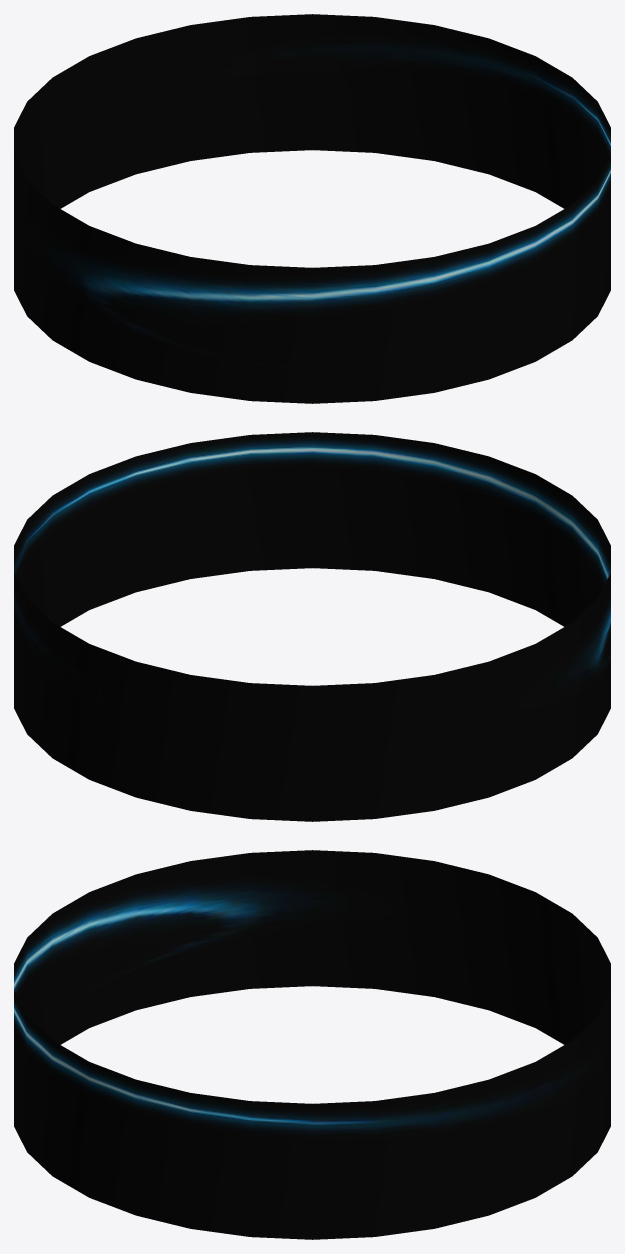
Rendered from 0332_hupa_06.glb.
3 views of the same model, one above another, from view 1: azimuth 30°, elevation 25°; view 2: azimuth 150°, elevation 25°; view 3: azimuth 270°, elevation 25° (orthographic).
Bounding box in the file's own units: 2.2 × 0.55 × 2.19.
Materials: 1 (1 with a texture image).
